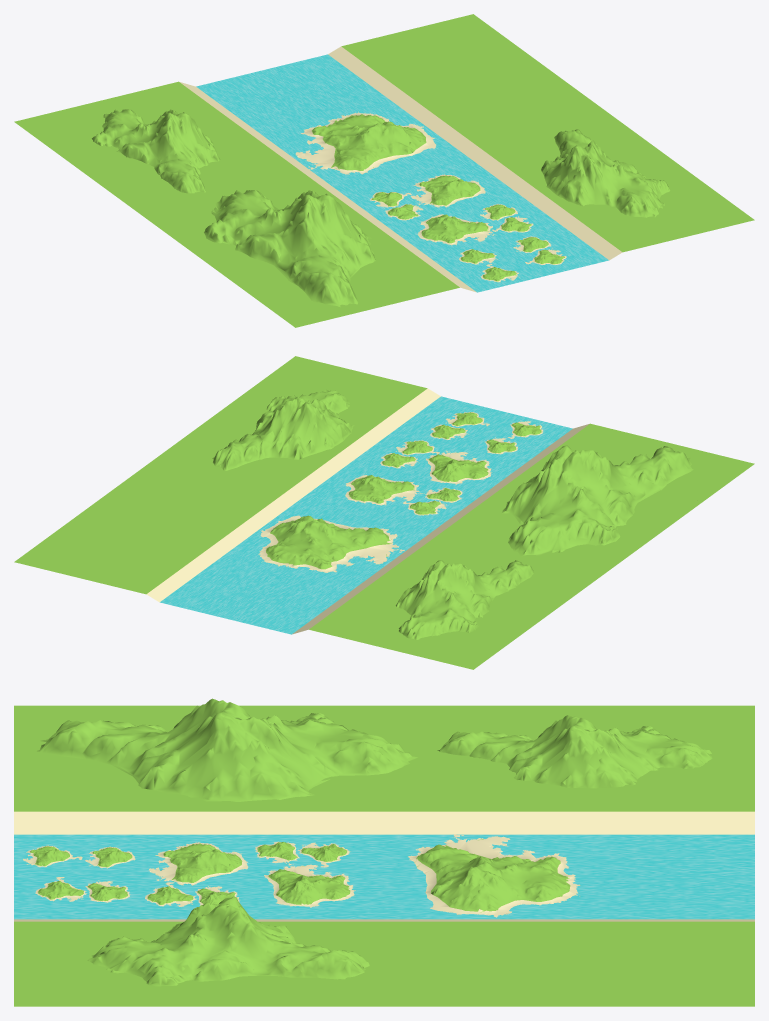
File: water.fbx
3 renders of one model, top to bottom at view 1: azimuth 30°, elevation 25°; view 2: azimuth 150°, elevation 25°; view 3: azimuth 270°, elevation 25°, orthographic. The views are drawn at different scales.
Visible parts, largest first — view 1: defaultMaterial, defaultMaterial.012, defaultMaterial.013, defaultMaterial.014, defaultMaterial.011, defaultMaterial.008, defaultMaterial.003; view 2: defaultMaterial, defaultMaterial.012, defaultMaterial.014, defaultMaterial.013, defaultMaterial.011, defaultMaterial.008, defaultMaterial.003; view 3: defaultMaterial, defaultMaterial.012, defaultMaterial.013, defaultMaterial.014, defaultMaterial.011, defaultMaterial.008, defaultMaterial.003, defaultMaterial.002, defaultMaterial.007, defaultMaterial.005, defaultMaterial.010, defaultMaterial.001 (+3 smaller).
Boxes of the visible parts, x1,y1,x2,y2 form: defaultMaterial: [14, 14, 754, 327]; defaultMaterial.012: [204, 190, 375, 307]; defaultMaterial.013: [541, 129, 670, 217]; defaultMaterial.014: [92, 109, 220, 193]; defaultMaterial.011: [295, 111, 436, 174]; defaultMaterial.008: [410, 174, 485, 207]; defaultMaterial.003: [417, 214, 494, 245]; defaultMaterial: [14, 356, 754, 669]; defaultMaterial.012: [501, 445, 693, 556]; defaultMaterial.014: [396, 560, 533, 639]; defaultMaterial.013: [212, 390, 354, 470]; defaultMaterial.011: [258, 515, 404, 572]; defaultMaterial.008: [345, 475, 422, 505]; defaultMaterial.003: [426, 450, 492, 484]; defaultMaterial: [14, 705, 754, 1006]; defaultMaterial.012: [37, 698, 417, 801]; defaultMaterial.013: [87, 897, 369, 986]; defaultMaterial.014: [437, 715, 712, 788]; defaultMaterial.011: [408, 834, 580, 917]; defaultMaterial.008: [264, 863, 355, 907]; defaultMaterial.003: [148, 842, 248, 885]; defaultMaterial.002: [23, 845, 82, 867]; defaultMaterial.007: [145, 882, 196, 906]; defaultMaterial.005: [35, 877, 86, 901]; defaultMaterial.010: [298, 842, 350, 867]; defaultMaterial.001: [85, 846, 135, 868].
Bounding box in the file's own units: 5210 × 635 × 5529.
Materials: 1 (1 with a texture image).
